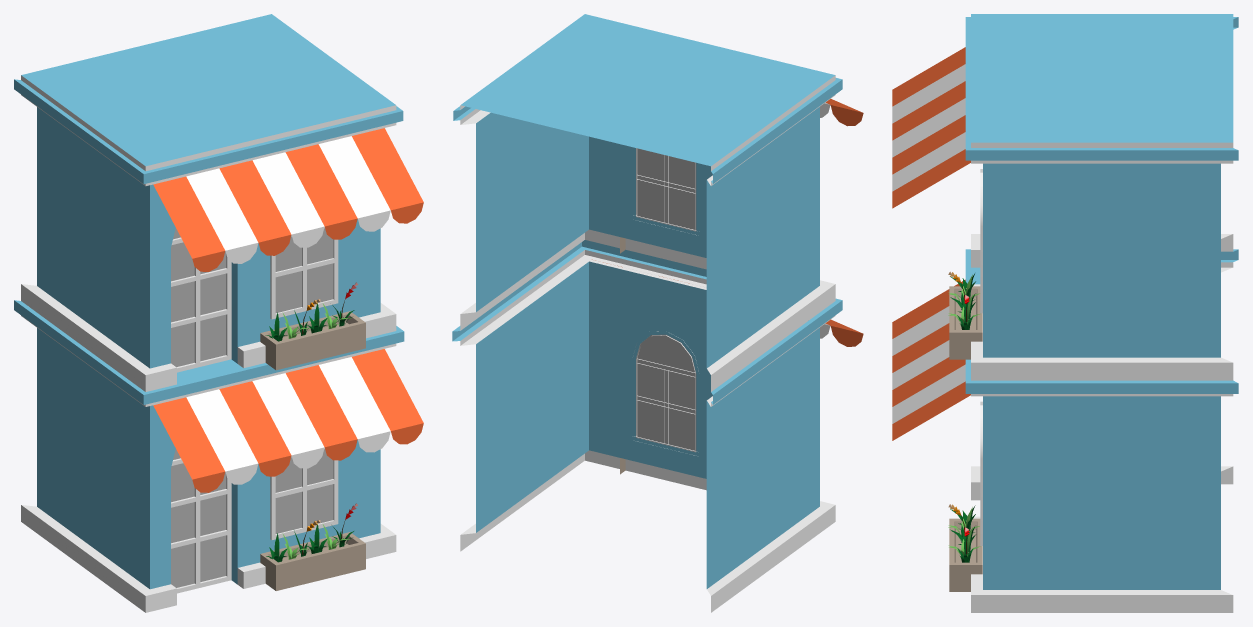
File: building_8.fbx
3 renders of one model, left to right at view 1: azimuth 30°, elevation 25°; view 2: azimuth 150°, elevation 25°; view 3: azimuth 270°, elevation 25°, orthographic. The views are drawn at different scales.
Visible parts, largest first — view 1: building_8; view 2: building_8; view 3: building_8.
Part boxes in pixels (bbox=[...]): building_8: bbox=[14, 14, 423, 612]; building_8: bbox=[452, 14, 863, 612]; building_8: bbox=[892, 14, 1238, 612].
Bounding box in the file's own units: 420 × 689 × 460.
Materials: 1 (1 with a texture image).
